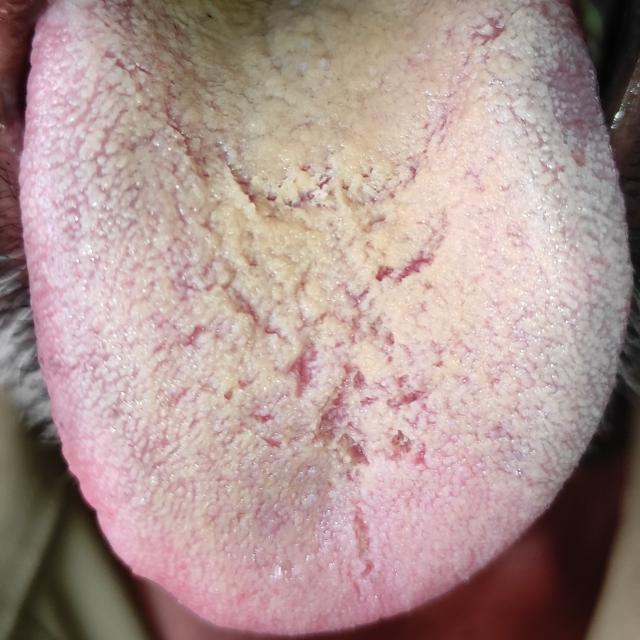leukoplakia-like-detection: (28, 2, 622, 562)
processing_area: (37, 1, 622, 633)
